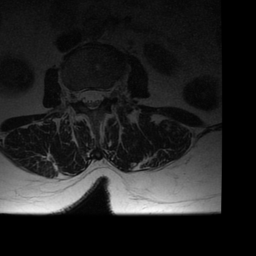CCS_normal: (88, 79, 96, 116)
LFS_normal: (105, 79, 113, 104)
LLS_normal: (96, 79, 105, 110)
RFS_normal: (71, 80, 79, 108)
RLS_normal: (79, 80, 88, 109)
